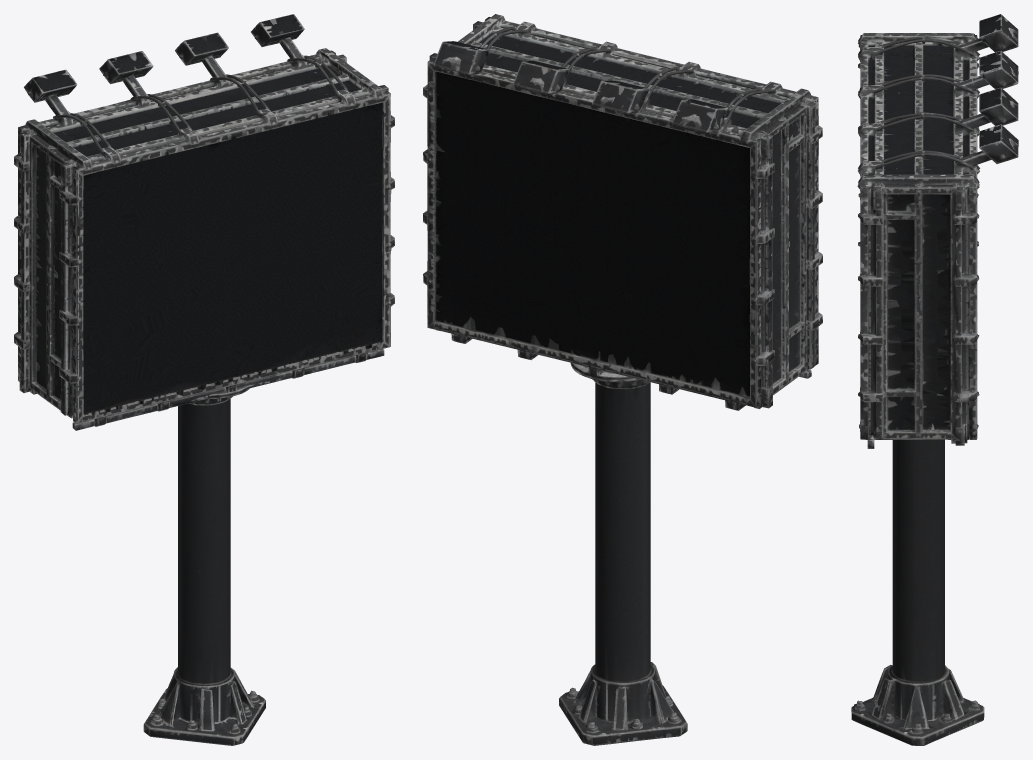
Rendered from billboard.glb.
The picture shows the model from 3 angles, left to right: view 1: azimuth 30°, elevation 25°; view 2: azimuth 150°, elevation 25°; view 3: azimuth 270°, elevation 25°; orthographic projection. The views are drawn at different scales.
Visible parts, largest first — view 1: frame; view 2: frame; view 3: frame.
Boxes of the visible parts, x1,y1,x2,y2 form: frame: [14, 14, 394, 745]; frame: [423, 14, 822, 745]; frame: [851, 14, 1018, 745].
Bounding box in the file's own units: 5.29 × 10 × 2.36.
1 material, 1 textured.
